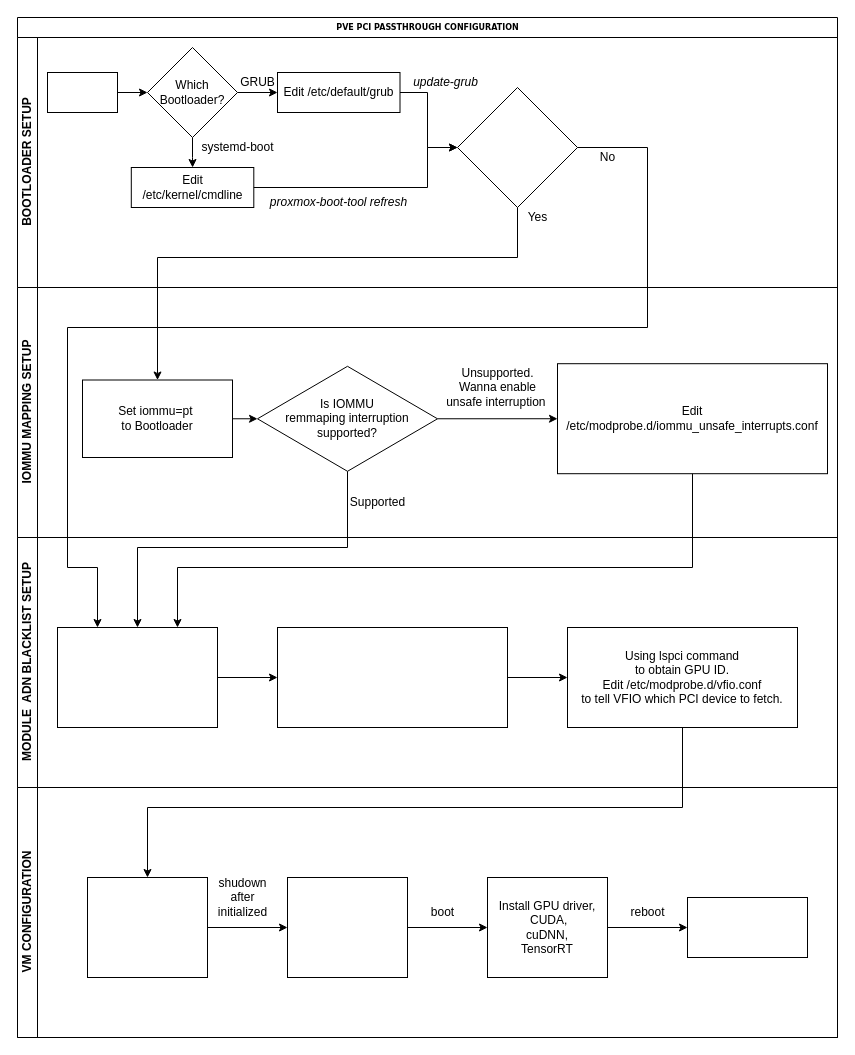
Image size: 855x1055. Some labels were removed from this diagram. Each missing label, with the centre of its shape:
"Assign PCI device" goes at (347,927).
"Create VM" goes at (147,927).
"Done" goes at (747,927).
"Edit /etc/modprobe.d/blacklist.conf to prevent GPU resource occupied by PVE ." goes at (392,677).
"Edit /etc/module to enable VFIO" goes at (137,677).
"Need IOMMU Identity Mapping?" goes at (517,147).
"Start" goes at (82,92).
